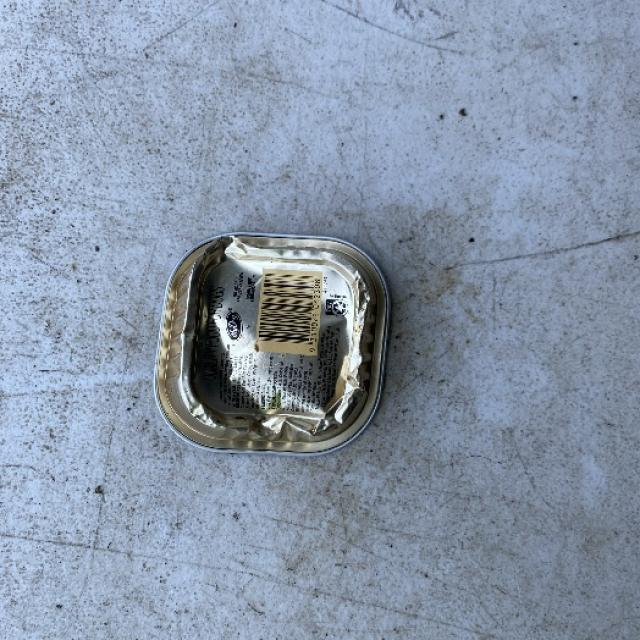inorganic: (178, 227, 384, 460)
